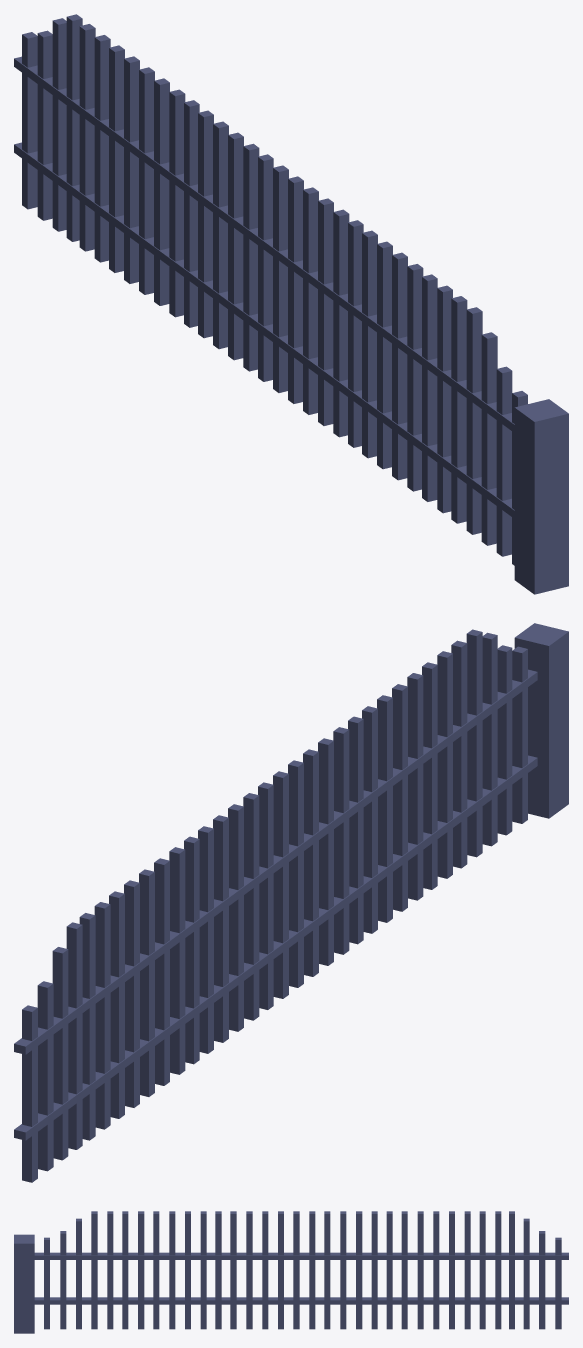
Rendered from StraightFence.fbx.
3 views of the same model, one above another, from view 1: azimuth 30°, elevation 25°; view 2: azimuth 150°, elevation 25°; view 3: azimuth 270°, elevation 25° (orthographic). The views are drawn at different scales.
Visible parts, largest first — view 1: Gate2.003; view 2: Gate2.003; view 3: Gate2.003.
Part boxes in pixels (box(x1,y1,x2,y2)): Gate2.003: box(14, 14, 568, 594); Gate2.003: box(14, 623, 568, 1182); Gate2.003: box(14, 1211, 568, 1333).
Bounding box in the file's own units: 41.8 × 259 × 1117.
